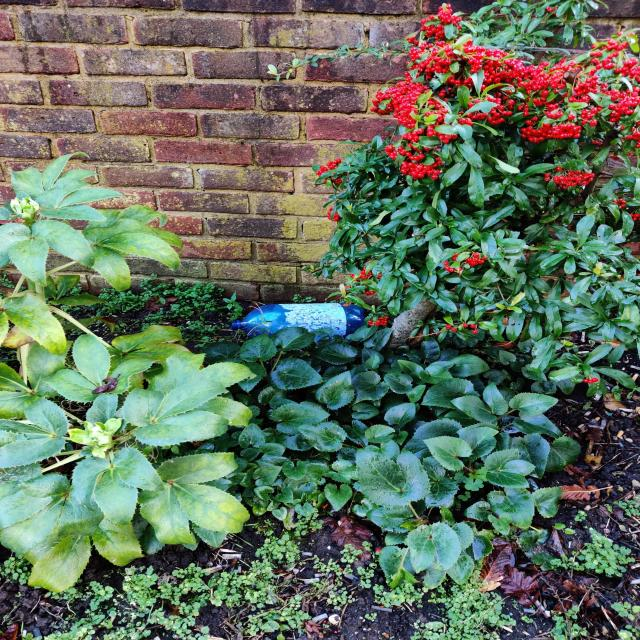litter: (219, 297, 376, 343)
